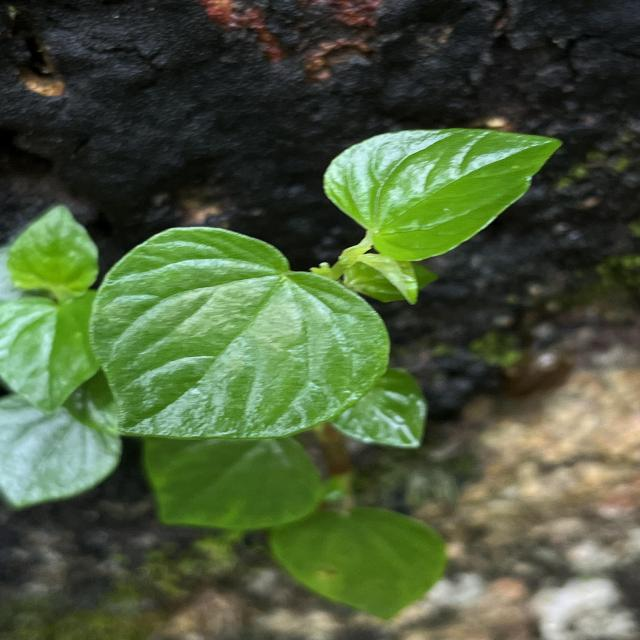Peperomia pellucida: (88, 226, 394, 444), (322, 124, 566, 266)
